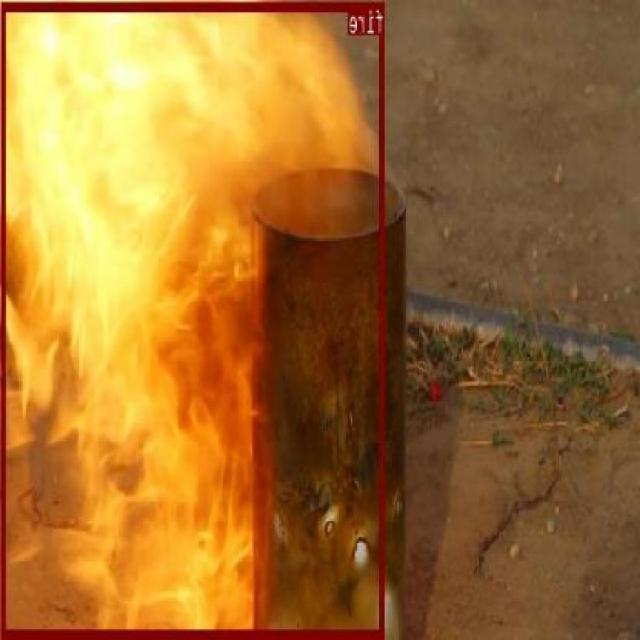Fire: (3, 1, 386, 636)
